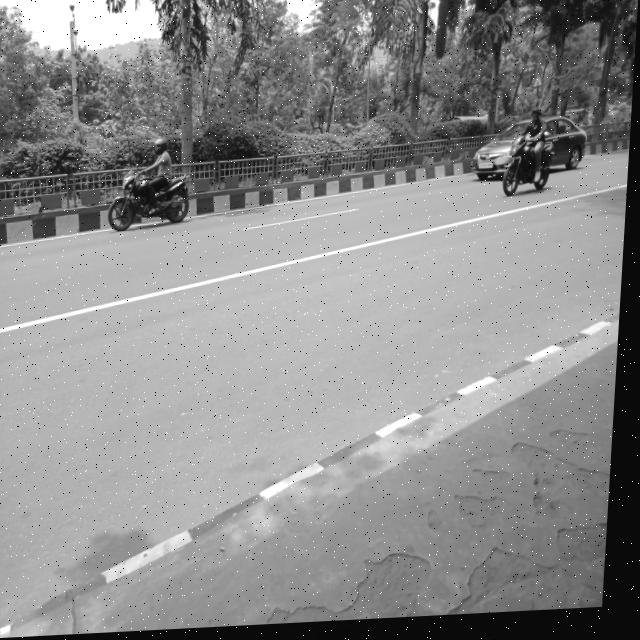bike: (103, 168, 206, 221), (507, 142, 562, 201)
